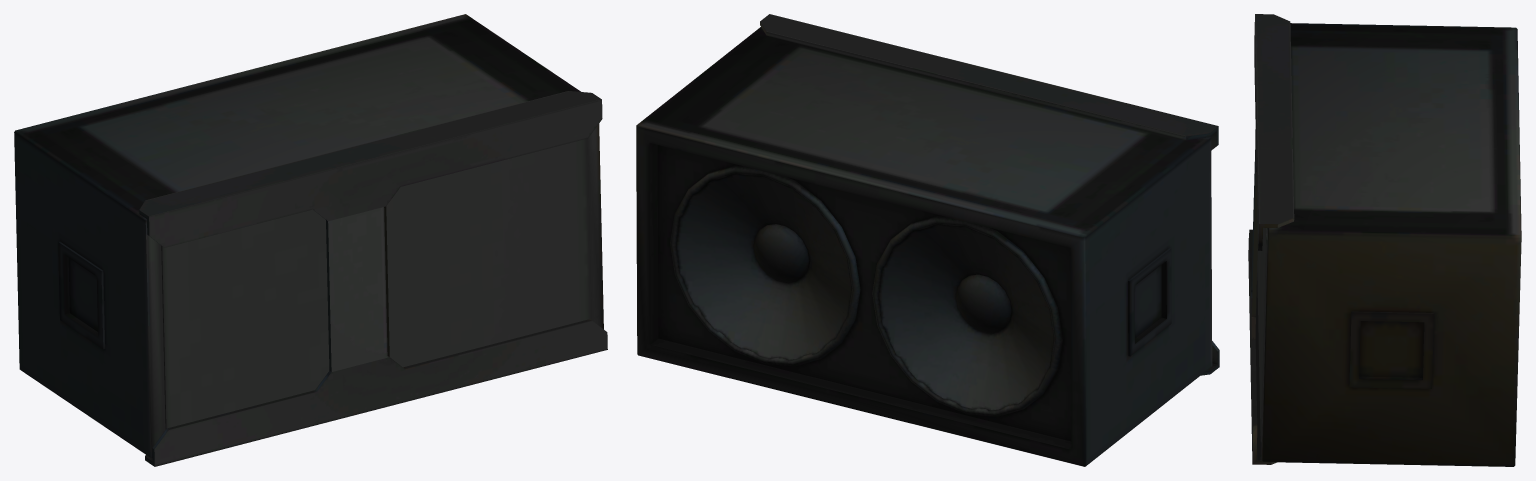
Rendered from Wall speaker.glb.
The picture shows the model from 3 angles, left to right: view 1: azimuth 30°, elevation 25°; view 2: azimuth 150°, elevation 25°; view 3: azimuth 270°, elevation 25°; orthographic projection. The views are drawn at different scales.
Visible parts, largest first — view 1: speaker.smd; view 2: speaker.smd; view 3: speaker.smd.
Boxes of the visible parts, box(x1,y1,x2,y2) form: speaker.smd: box(14, 14, 607, 466); speaker.smd: box(636, 14, 1219, 466); speaker.smd: box(1248, 14, 1521, 466).
Size of the model in its own units: 1.12 by 0.5959 by 0.5977.
Materials: 2 (2 with a texture image).
